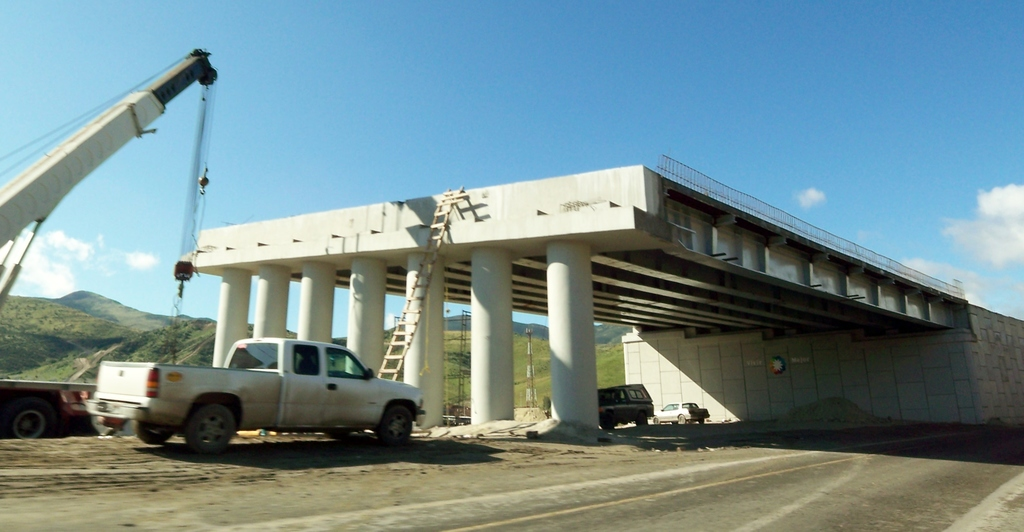Car: (650, 400, 710, 427)
